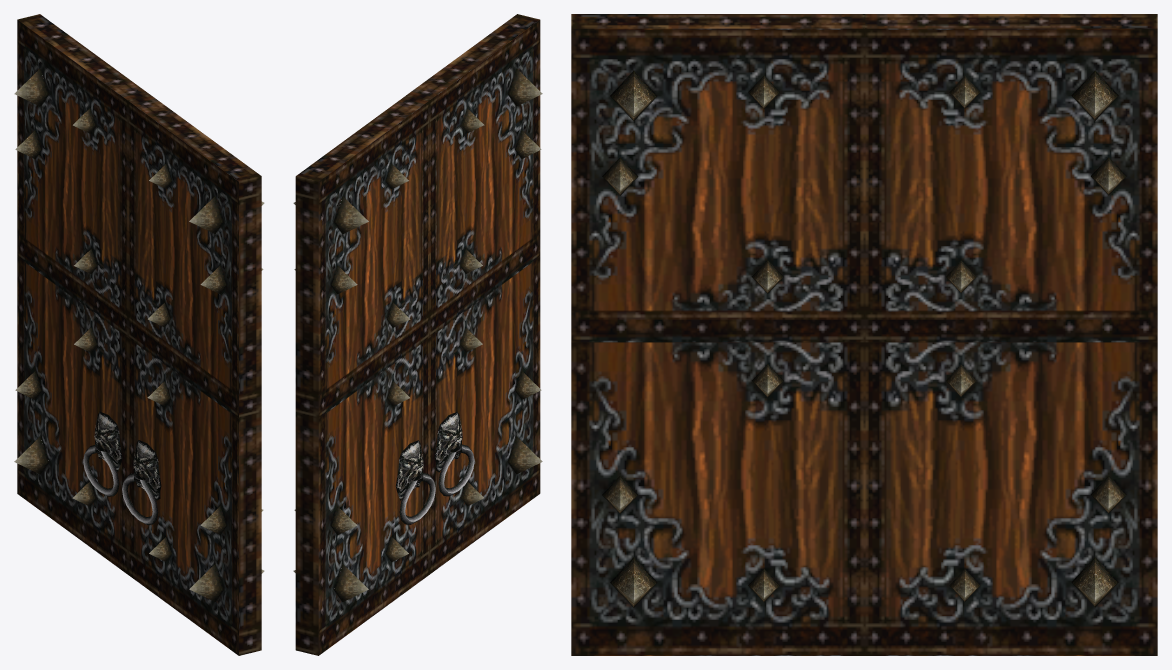
Rendered from INST_SWORDLIGHT_TROLLDOORS_ANI1.fbx.
3 renders of one model, left to right at view 1: azimuth 30°, elevation 25°; view 2: azimuth 150°, elevation 25°; view 3: azimuth 270°, elevation 25°, orthographic. The views are drawn at different scales.
Visible parts, largest first — view 1: INST_SWORDLIGHT_TROLLDOORS_ANI1; view 2: INST_SWORDLIGHT_TROLLDOORS_ANI1; view 3: INST_SWORDLIGHT_TROLLDOORS_ANI1.
Boxes of the visible parts, box(x1,y1,x2,y2) form: INST_SWORDLIGHT_TROLLDOORS_ANI1: box(14, 14, 264, 655); INST_SWORDLIGHT_TROLLDOORS_ANI1: box(293, 14, 542, 655); INST_SWORDLIGHT_TROLLDOORS_ANI1: box(571, 14, 1157, 655).
Size of the model in its own units: 13737 by 81452 by 69000.
4 materials, 4 textured.
